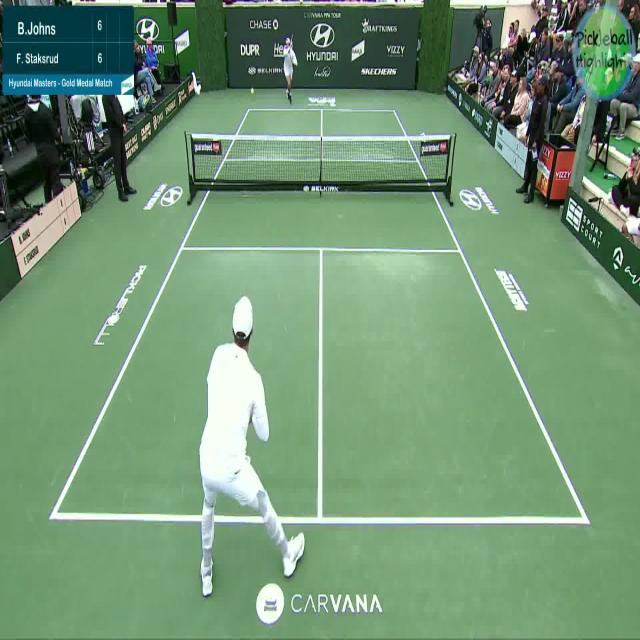ball: (249, 84, 255, 94)
